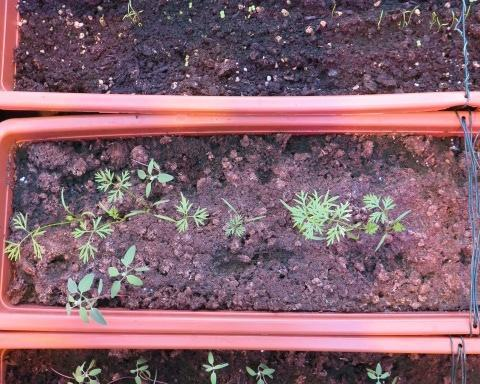weed: (104, 243, 152, 298)
